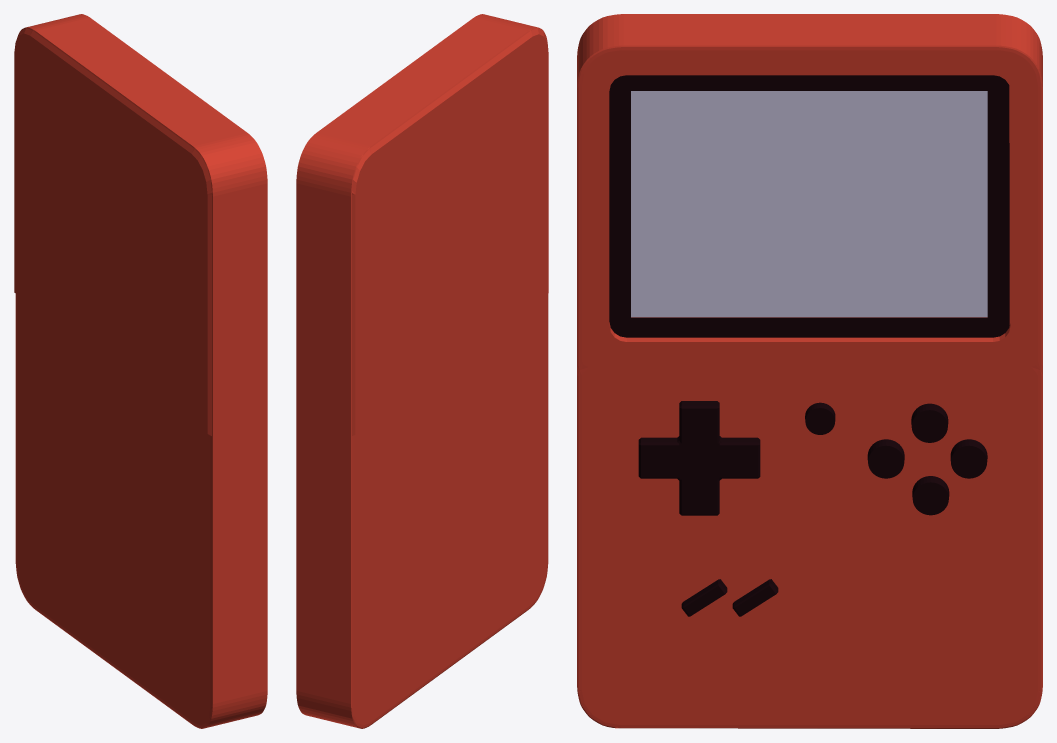
Rendered from gameDeviceThree.glb.
3 views of the same model, side by side, from view 1: azimuth 30°, elevation 25°; view 2: azimuth 150°, elevation 25°; view 3: azimuth 270°, elevation 25° (orthographic). The views are drawn at different scales.
Visible parts, largest first — view 1: device.001; view 2: device.001; view 3: device.001, screenShader.001, device-dark.001, btnCross.001, btn2.001, btn1.001, btn3.001, btn4.001, btnOFF.001, btnSmall2.001, btnSmall1.001.
Part boxes in pixels (left/top/right/bottom): device.001: left=14, top=14, right=267, bottom=728; device.001: left=296, top=14, right=548, bottom=728; device.001: left=577, top=14, right=1042, bottom=728; screenShader.001: left=631, top=91, right=987, bottom=317; device-dark.001: left=609, top=75, right=1009, bottom=337; btnCross.001: left=638, top=401, right=760, bottom=515; btn2.001: left=867, top=439, right=904, bottom=478; btn1.001: left=912, top=476, right=949, bottom=515; btn3.001: left=950, top=439, right=987, bottom=478; btn4.001: left=911, top=403, right=948, bottom=442; btnOFF.001: left=805, top=402, right=835, bottom=434; btnSmall2.001: left=732, top=579, right=778, bottom=616; btnSmall1.001: left=681, top=579, right=727, bottom=616.
Size of the model in its own units: 0.4066 by 3.24 by 2.
